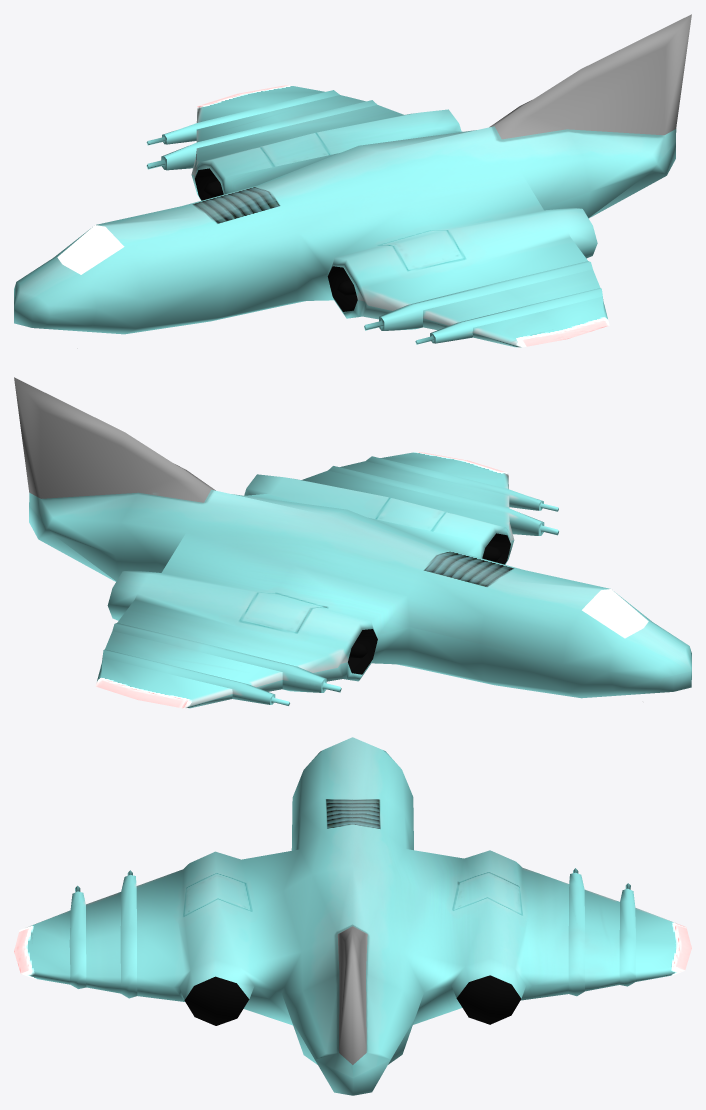
File: Blue Ship_3d.FBX
3 renders of one model, top to bottom at view 1: azimuth 30°, elevation 25°; view 2: azimuth 150°, elevation 25°; view 3: azimuth 270°, elevation 25°, orthographic. The views are drawn at different scales.
Parts seen in each view (by area): view 1: Box001; view 2: Box001; view 3: Box001.
Part boxes in pixels (x1=…): Box001: x1=14, y1=14, x2=691, y2=347; Box001: x1=14, y1=377, x2=691, y2=708; Box001: x1=14, y1=737, x2=691, y2=1095.
Size of the model in its own units: 3786 by 951 by 3203.
